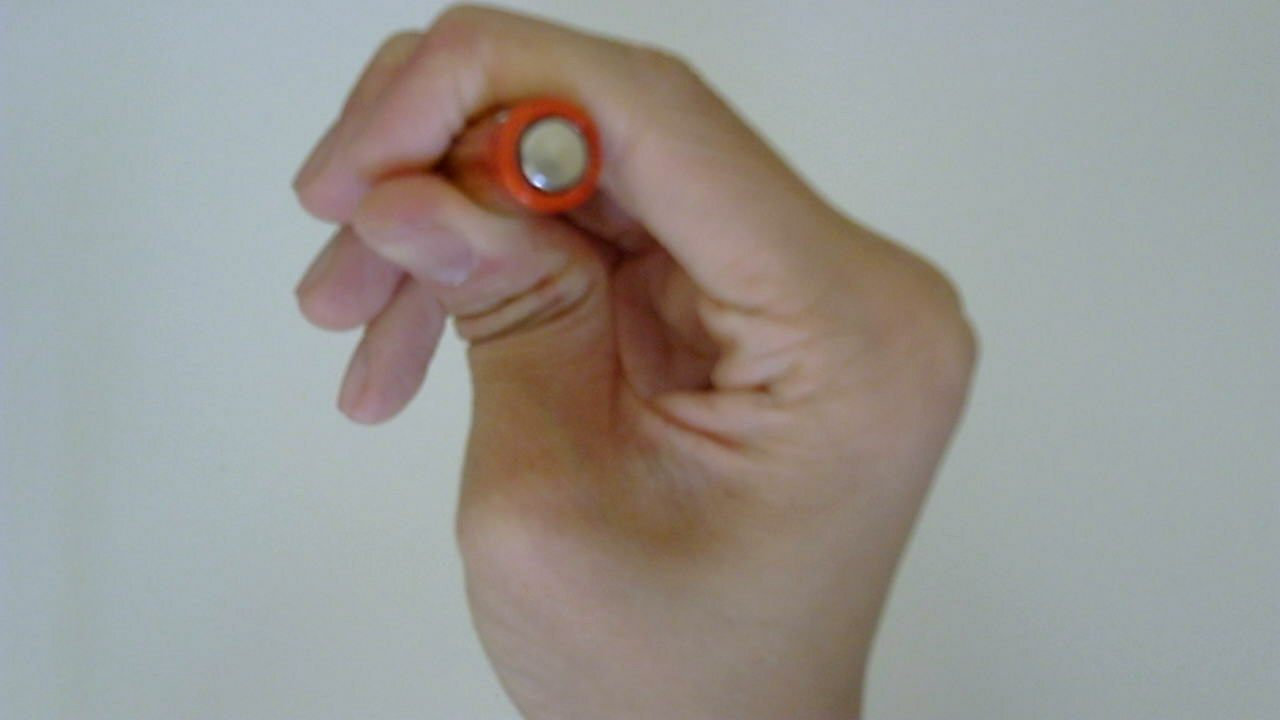Battery: (448, 98, 613, 227)
